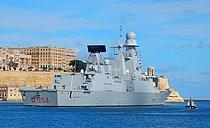MIL_Ship: (16, 30, 170, 107)
